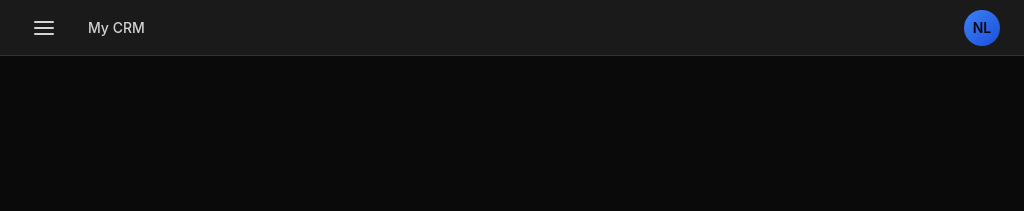
Test: Header › opens profile dropdown when clicked
Check: the text "Theme" is not shown
Click the button with aria-label "User menu" at (982, 28), box [964,10,1000,46]
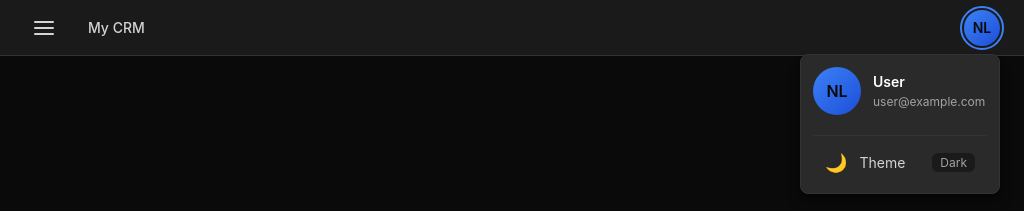
Check: the text "Theme" is shown, box [860,154,905,170]
